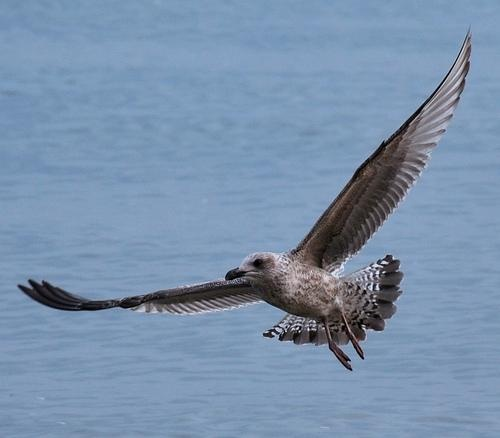bird: (17, 23, 475, 372)
